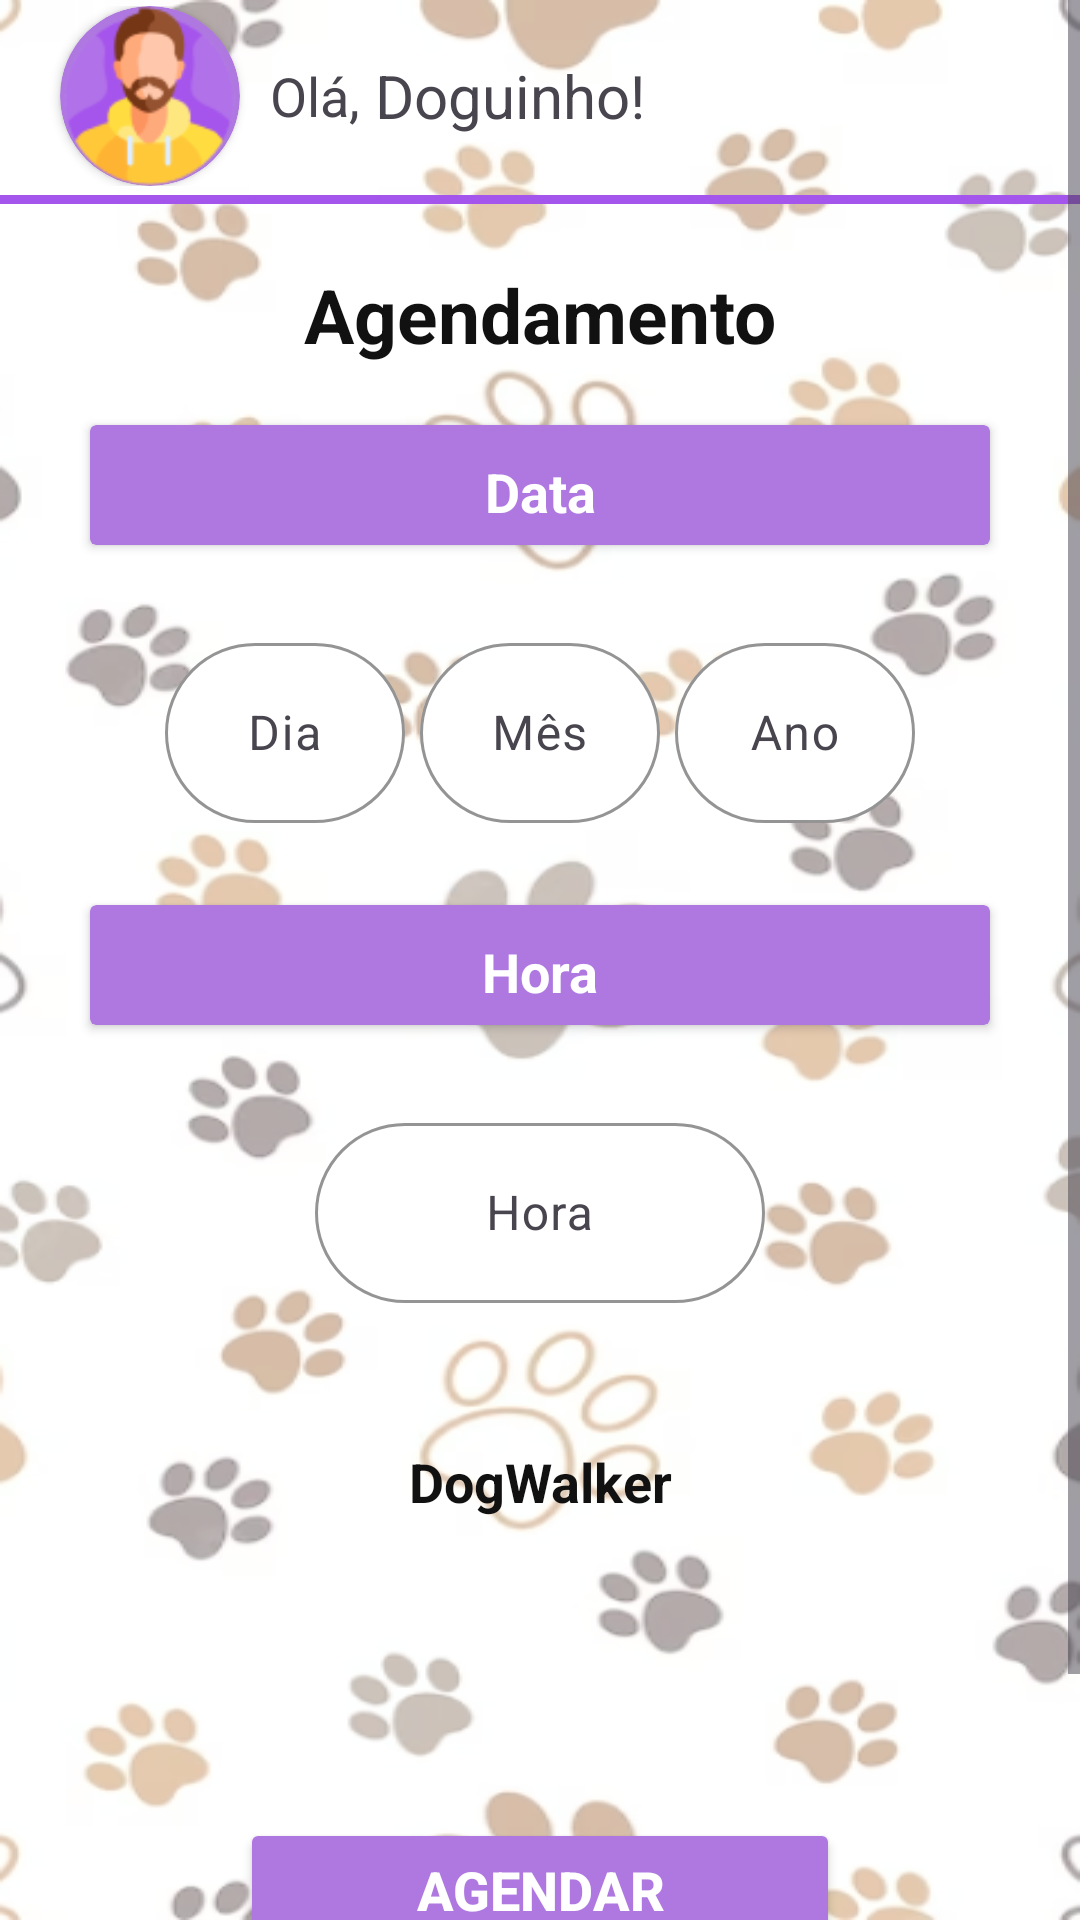

Icons on this 1080px x 1920px Android screen, each with its box as (x1, y1, x2, y2):
perfil: (60, 6, 240, 186)
